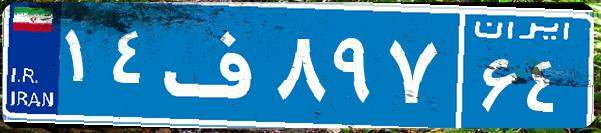1: (57, 26, 110, 107)
4: (110, 28, 158, 105), (525, 38, 570, 115)
6: (475, 38, 525, 113)
7: (385, 28, 445, 110)
8: (273, 28, 330, 110)
9: (330, 28, 385, 110)
ف: (158, 15, 273, 115)
